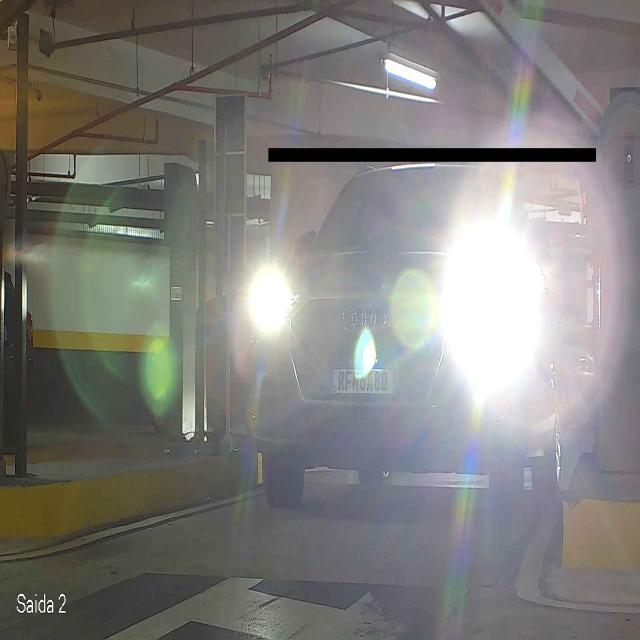mercosul_plate: (328, 358, 394, 395)
